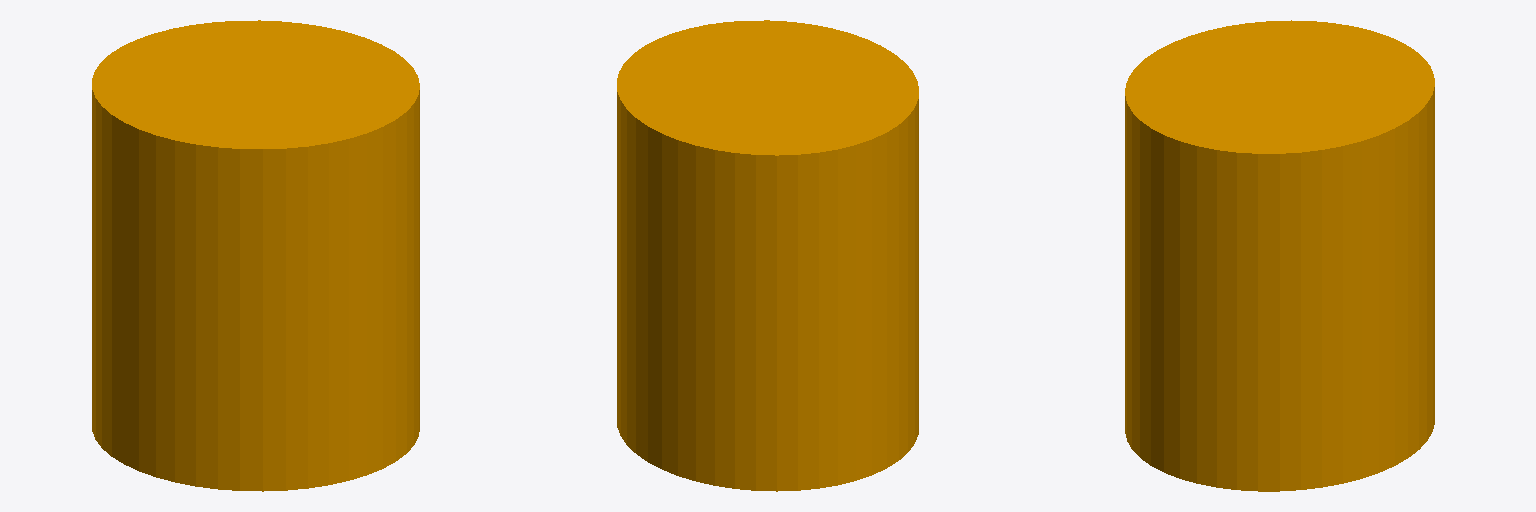
robot.urdf — object:
<?xml version="1.0"?>
<robot name="object">
  <link name="object">
    <visual>
      <origin xyz="0 0 0"/>
      <geometry>
        <mesh filename="meshes/generated/col_009.obj" scale="0.03 0.03 0.03"/>
      </geometry>
    </visual>
    <collision>
      <origin xyz="0 0 0"/>
      <geometry>
        <mesh filename="meshes/generated/col_009.obj" scale="0.03 0.03 0.03"/>
      </geometry>
    </collision>
    <inertial>
      <density value="1000.0"/>
    </inertial>
  </link>
</robot>

--- Render facts (derived) ---
3 views of the same robot in one strip: view 1: azimuth 30°, elevation 25°; view 2: azimuth 150°, elevation 25°; view 3: azimuth 270°, elevation 25° (orthographic).
Robot: object — 1 links, 0 joints (none); root link object; default pose: every joint at zero.
Visible links, largest first — view 1: object; view 2: object; view 3: object.
Boxes of the visible links, left/top/right/bottom form: object: left=92, top=20, right=419, bottom=491; object: left=617, top=20, right=918, bottom=491; object: left=1125, top=20, right=1434, bottom=491.
Size in the robot's own frame: 0.0508 by 0.0499 by 0.06 metres.
Meshes: 1 distinct files referenced, 1 mesh visuals loaded (1 OBJ).
